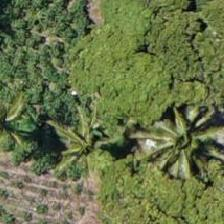coconut_tree: (0, 72, 46, 162)
